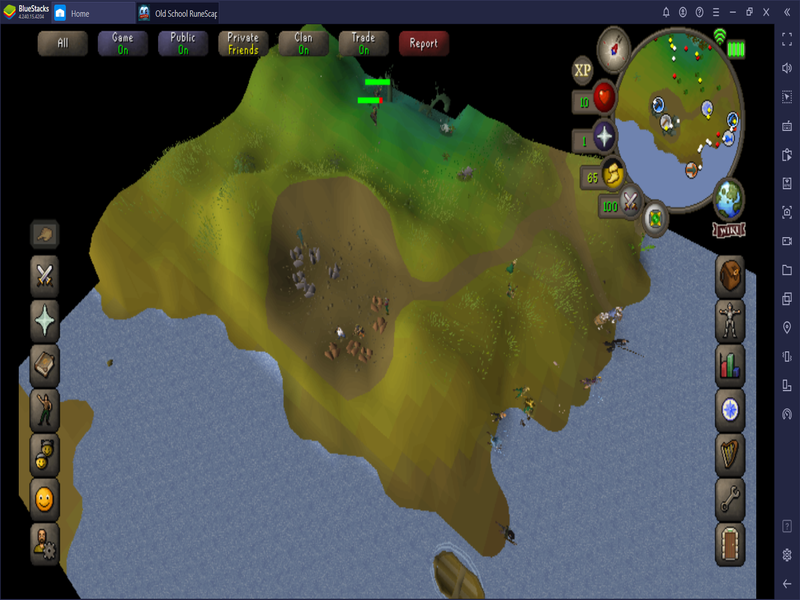copper_rock_1: (368, 295, 385, 314)
copper_rock_2: (370, 314, 390, 334)
